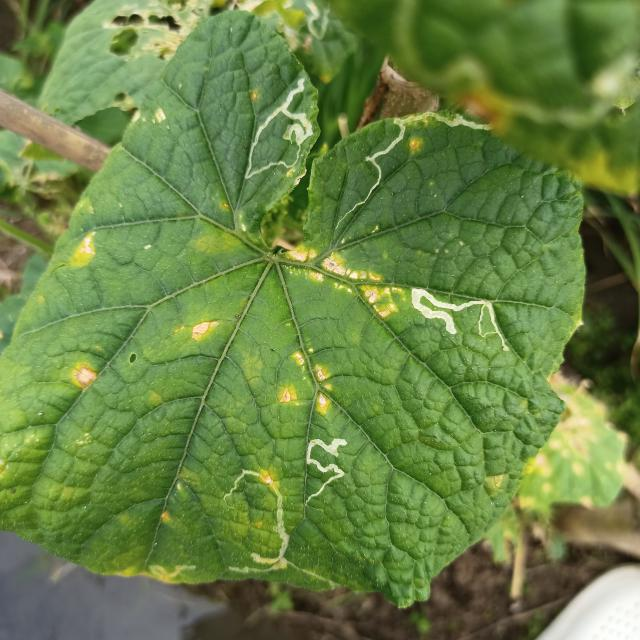disease_cucumber: (284, 241, 407, 322), (277, 346, 335, 416), (70, 227, 102, 274), (176, 318, 222, 343), (132, 106, 169, 128), (73, 364, 101, 388), (409, 137, 424, 156)
